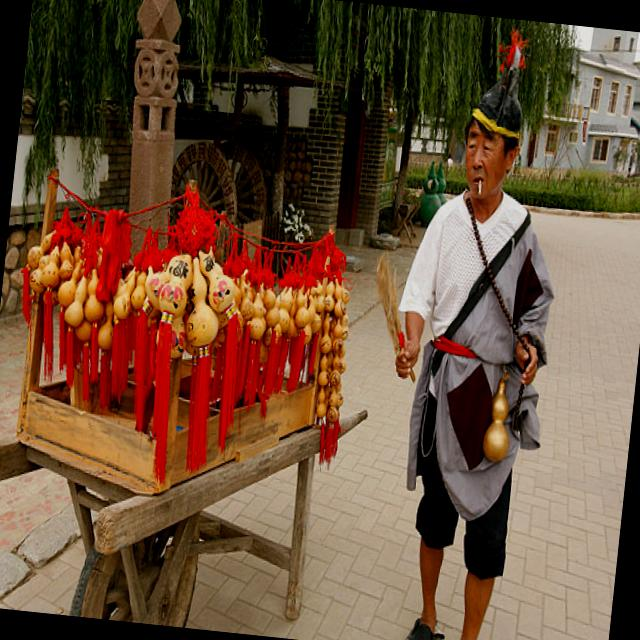cigarette: (476, 175, 484, 198)
